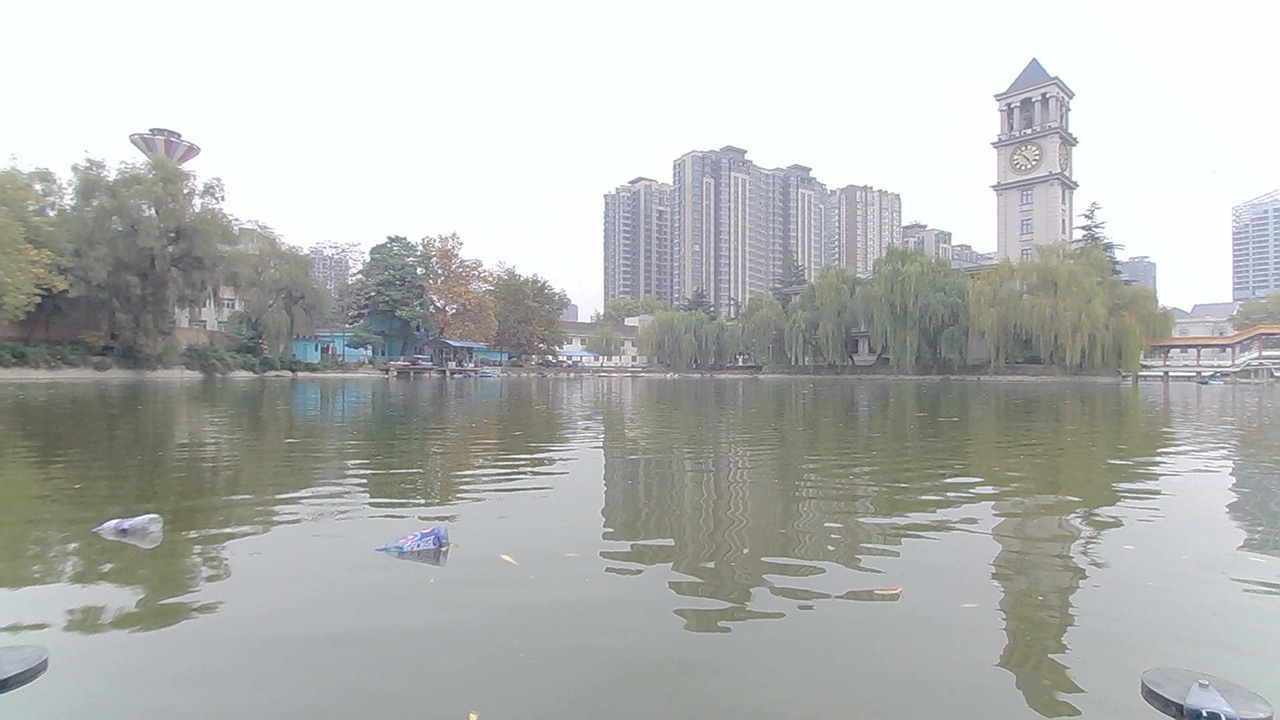bottle: (93, 493, 181, 559), (374, 511, 465, 569)
